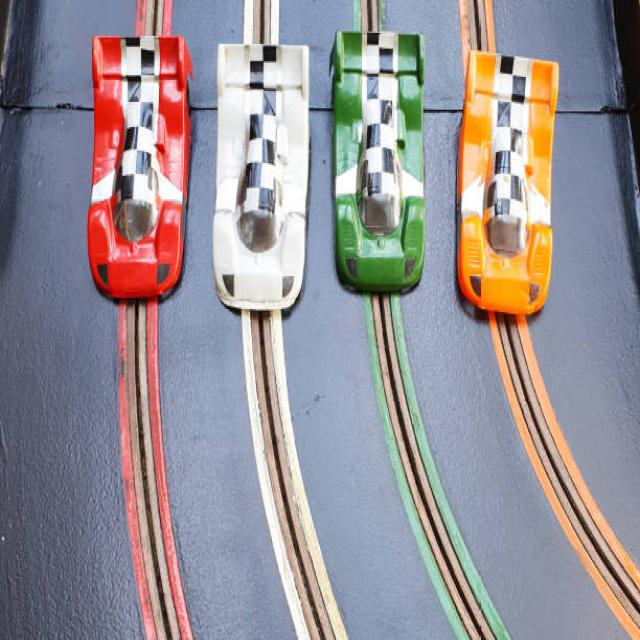Car: (88, 36, 191, 298), (457, 50, 557, 314), (212, 44, 310, 311), (333, 31, 425, 292)
